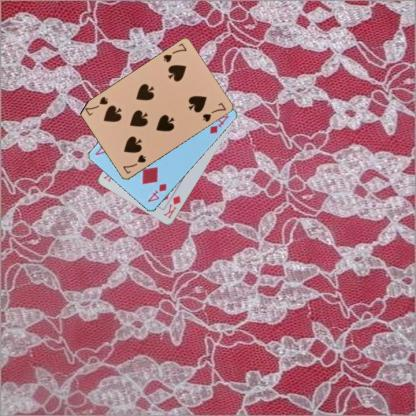4d: (145, 181, 168, 203)
7s: (160, 41, 188, 64), (121, 152, 148, 175)
Kd: (161, 193, 182, 220)
